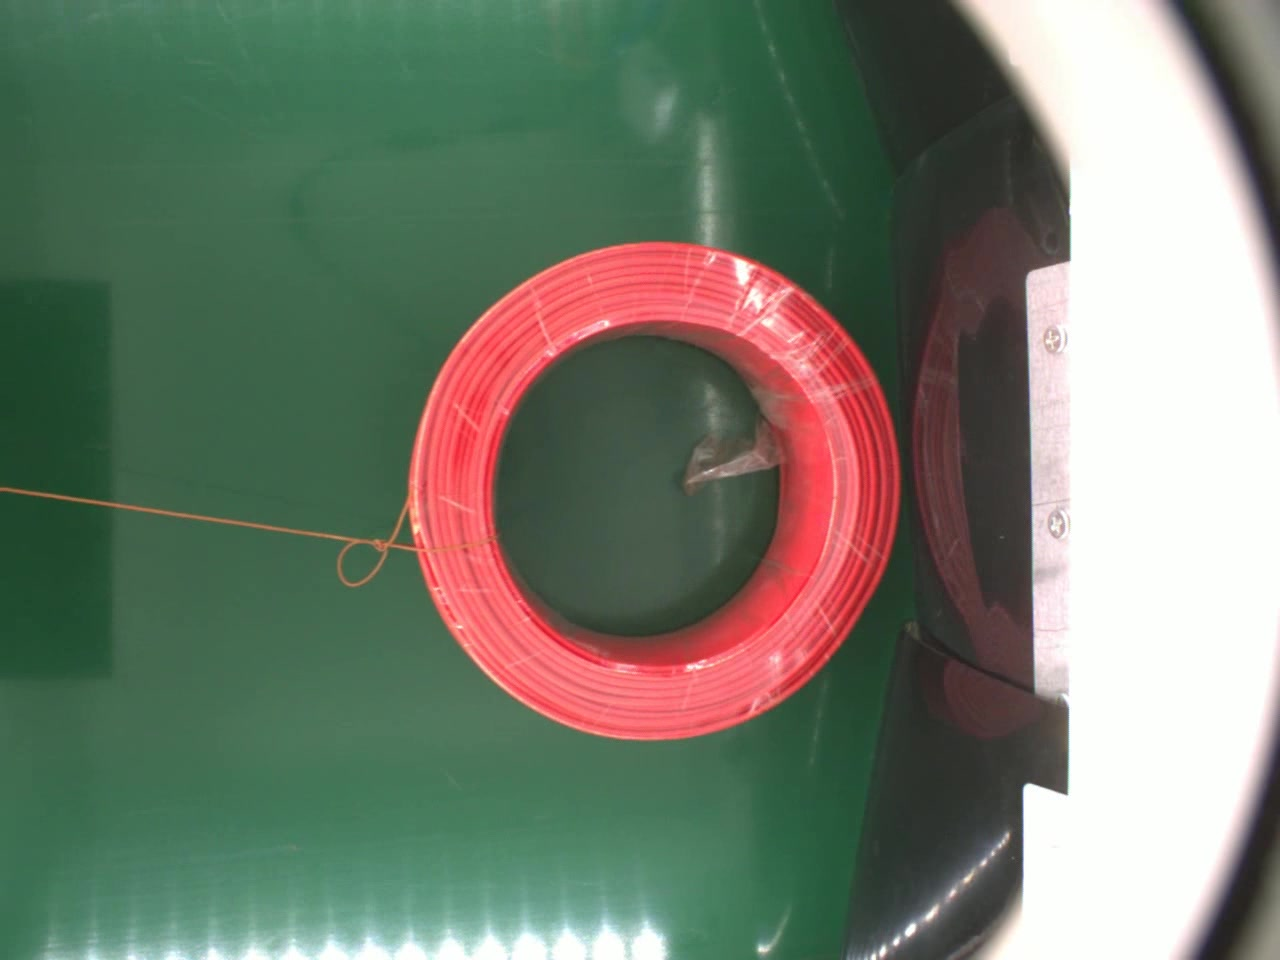red: (400, 231, 904, 743)
